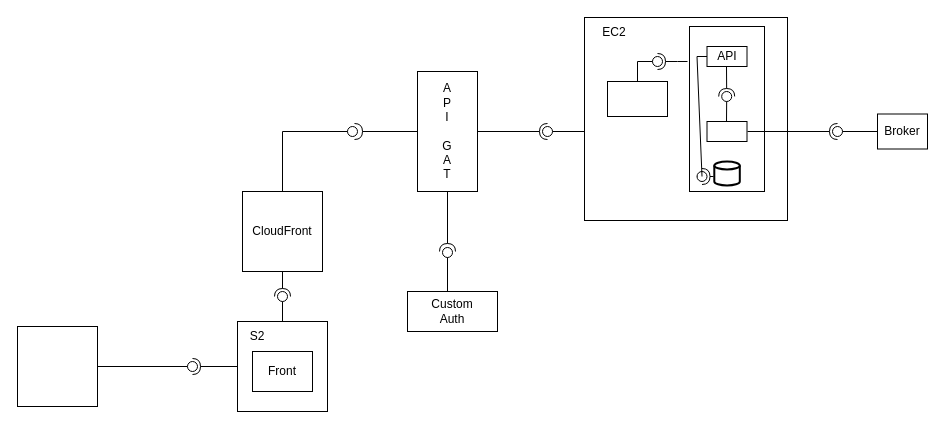
Some shapes in this 950 by 429 pixel diagram are drawn without their labels. Each missing label, with the centre of its shape:
"Auth0" belongs at pixel 57 366.
"mqtt" belongs at pixel 726 131.
"Ngnix" belongs at pixel 637 98.
